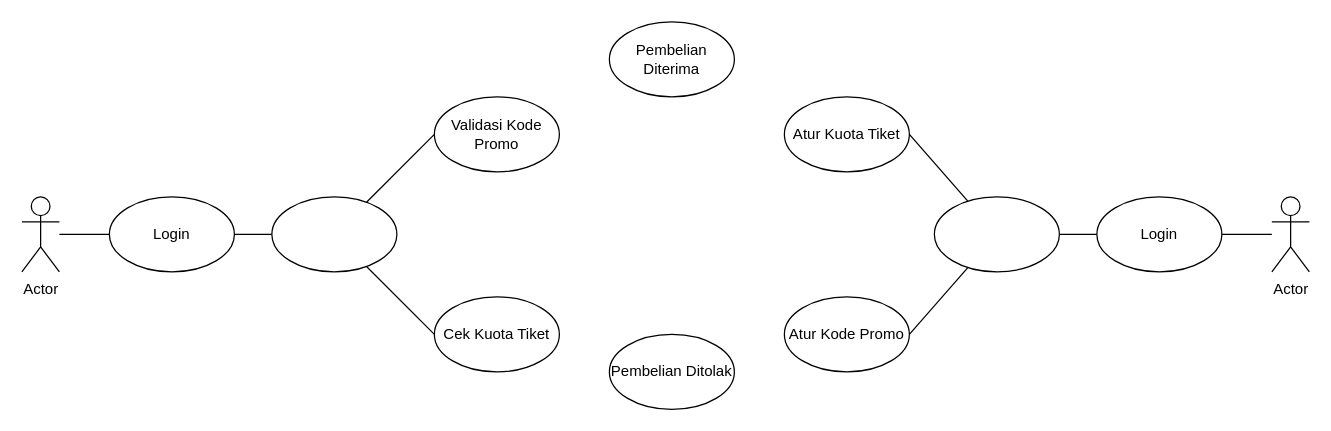
The diagram is 1331 pixels wide and 431 high, and some of its shapes have lost their labels. Here are the shapes that lost their labels. From the top down, the box of each, then its label:
(271, 196, 397, 272): Beli Tiket
(933, 196, 1059, 272): Kelola Tiket
